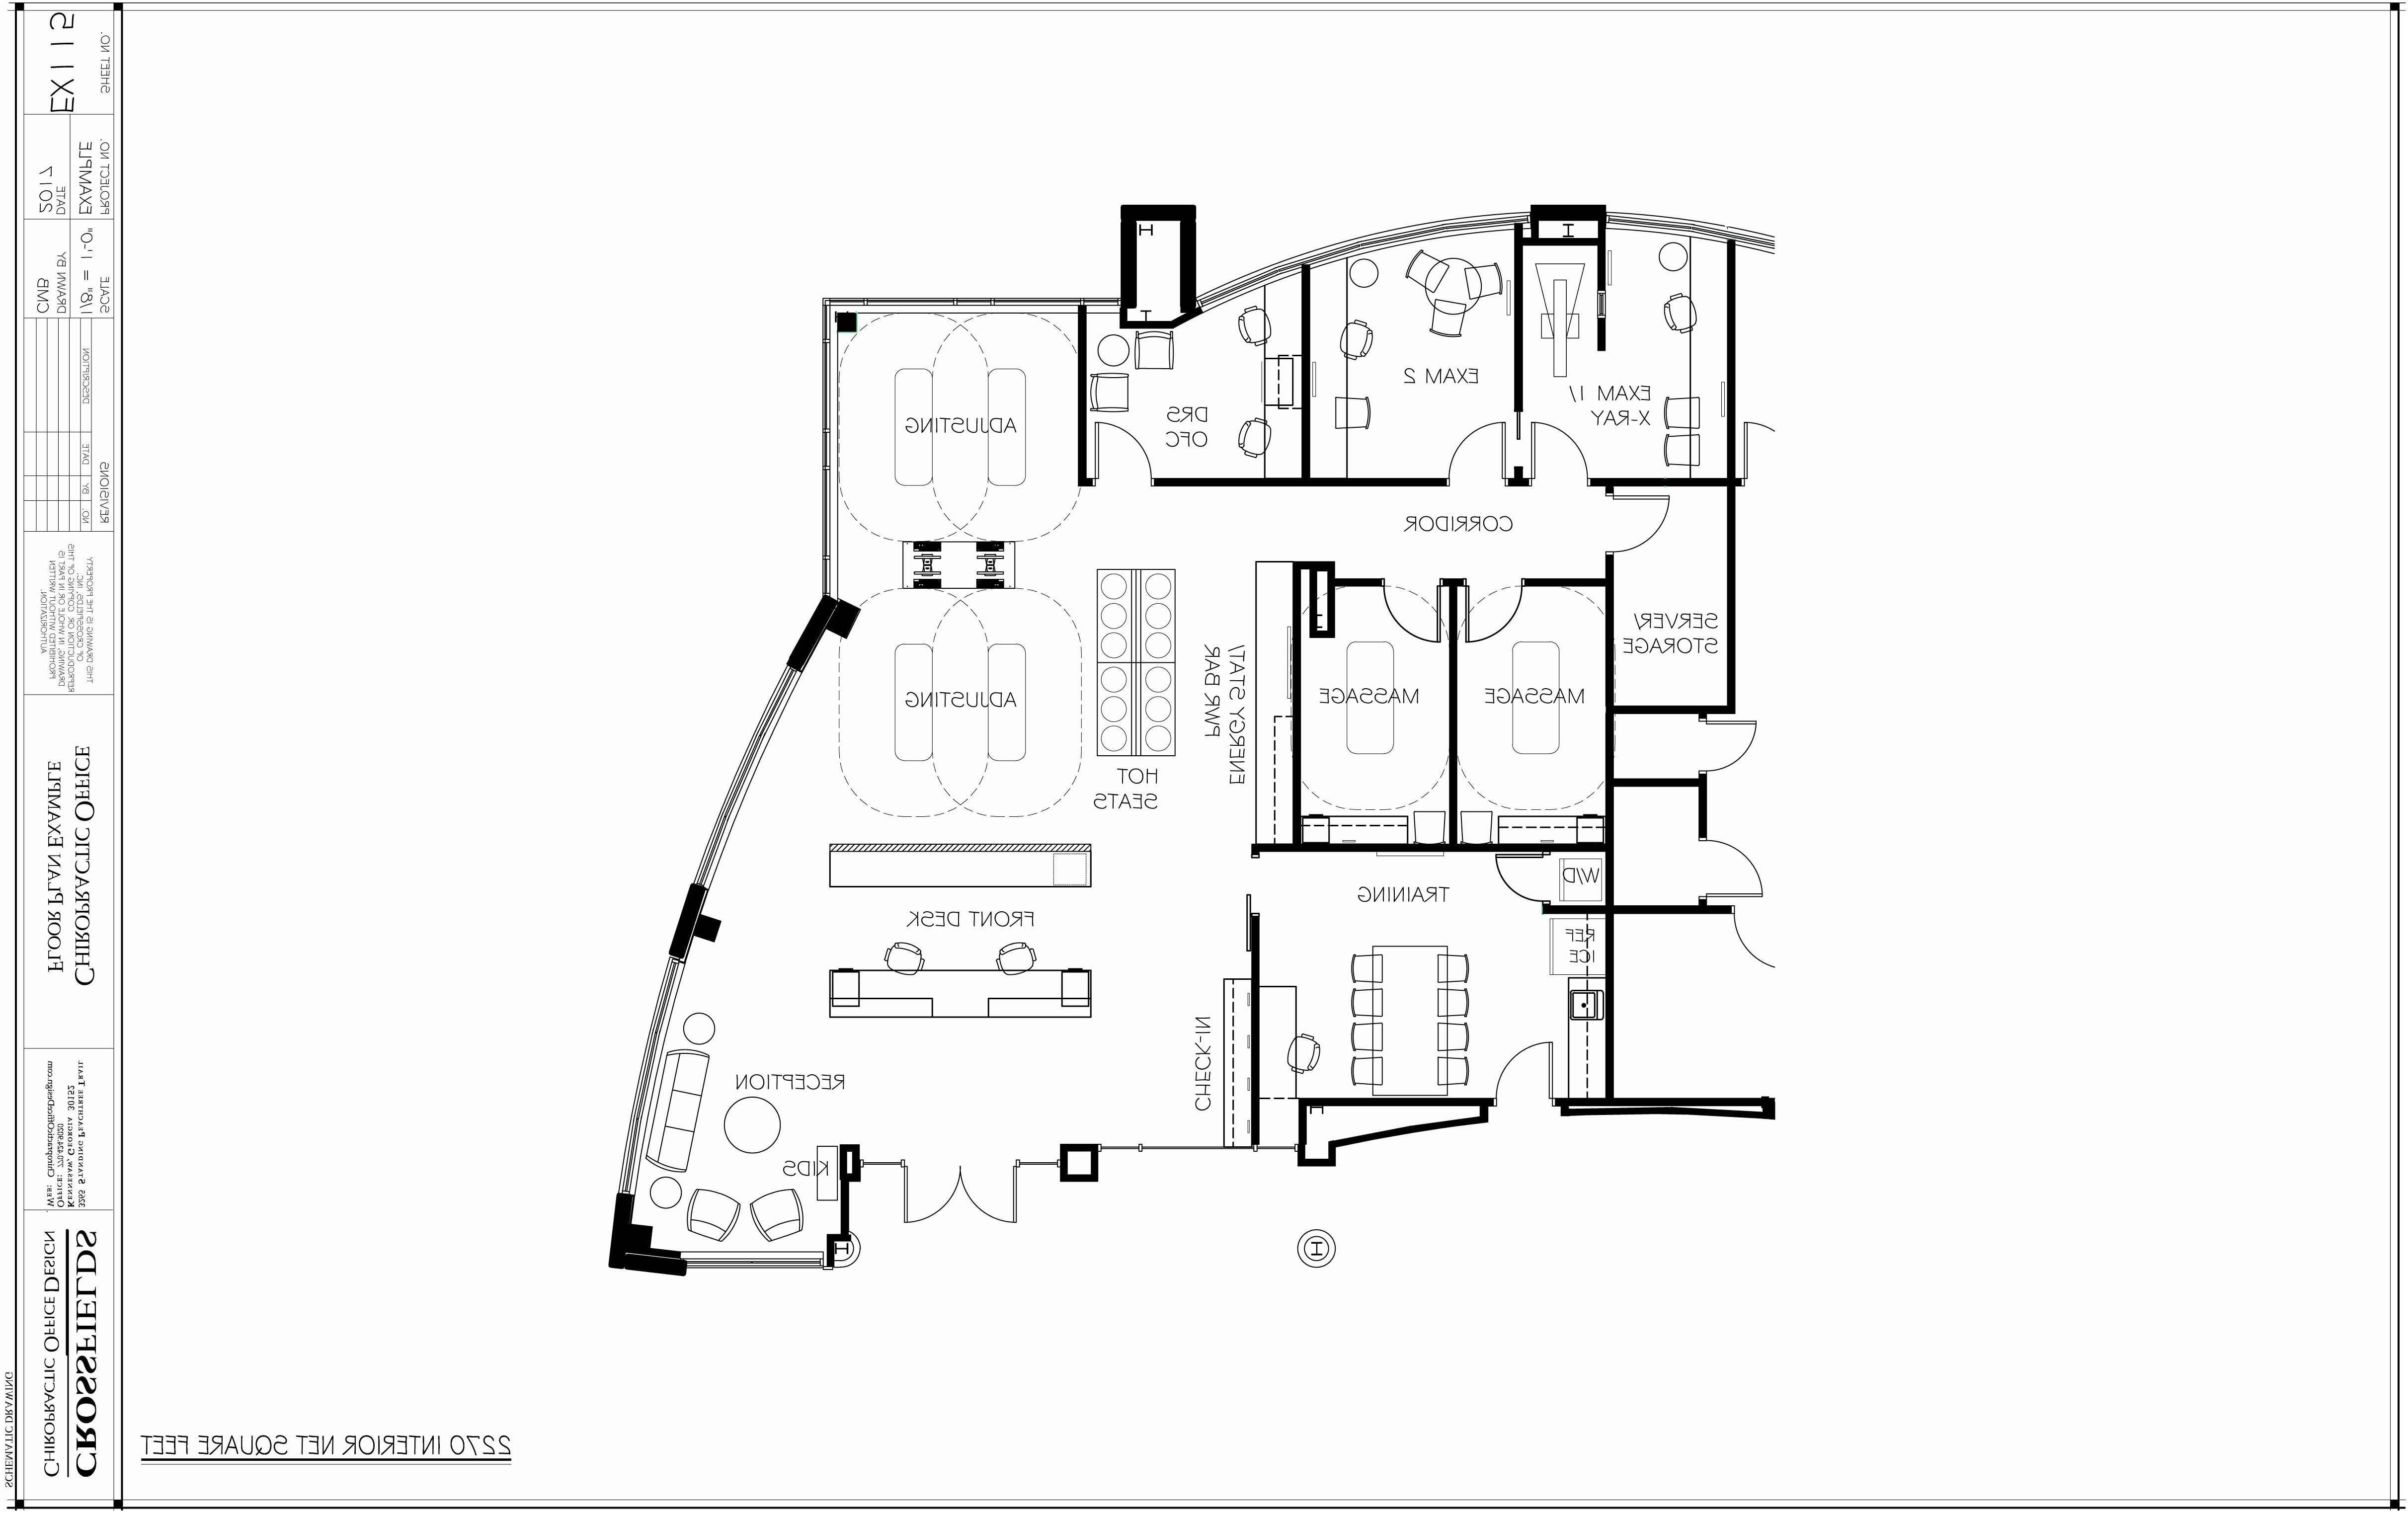door: (901, 1170, 1021, 1231), (1444, 417, 1509, 485), (1526, 422, 1594, 486), (1089, 417, 1153, 485), (1605, 493, 1674, 554), (1697, 838, 1765, 898), (1491, 1039, 1554, 1102), (1697, 718, 1760, 772), (1491, 852, 1552, 903)
